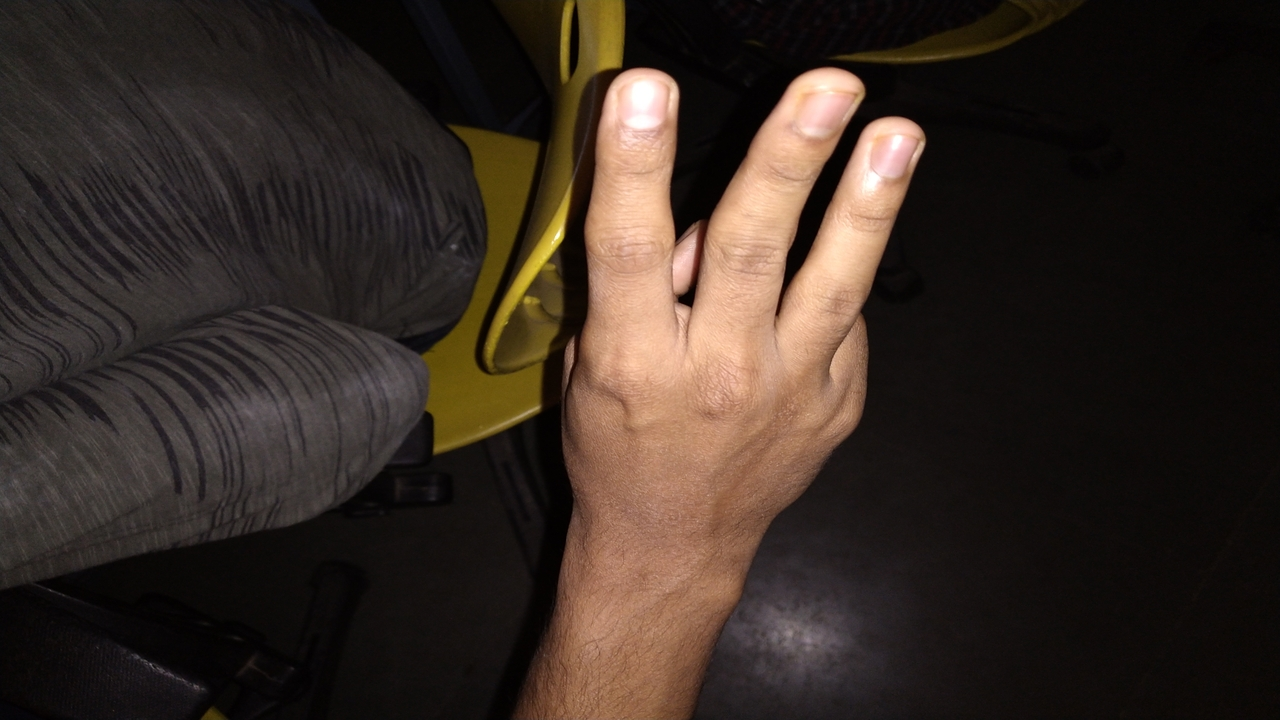fingertip: (592, 64, 684, 148), (786, 58, 872, 134), (852, 104, 936, 180)
